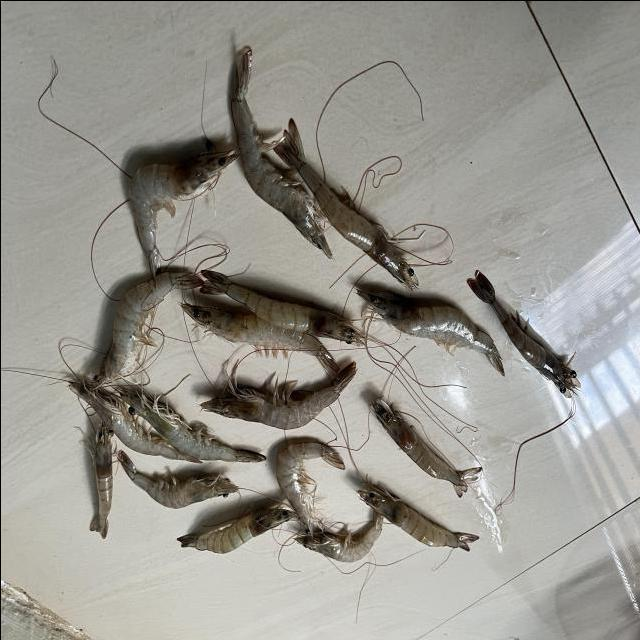shrimp: (273, 118, 418, 290), (230, 46, 331, 257), (467, 270, 581, 398), (127, 148, 237, 278), (356, 289, 504, 376), (199, 270, 365, 346), (92, 270, 200, 386), (180, 303, 338, 379), (368, 398, 482, 498), (67, 382, 201, 463), (117, 390, 265, 462), (199, 362, 355, 429), (356, 484, 478, 552), (116, 450, 237, 509), (275, 442, 344, 536), (176, 507, 295, 554), (295, 512, 382, 563), (88, 422, 112, 539)
